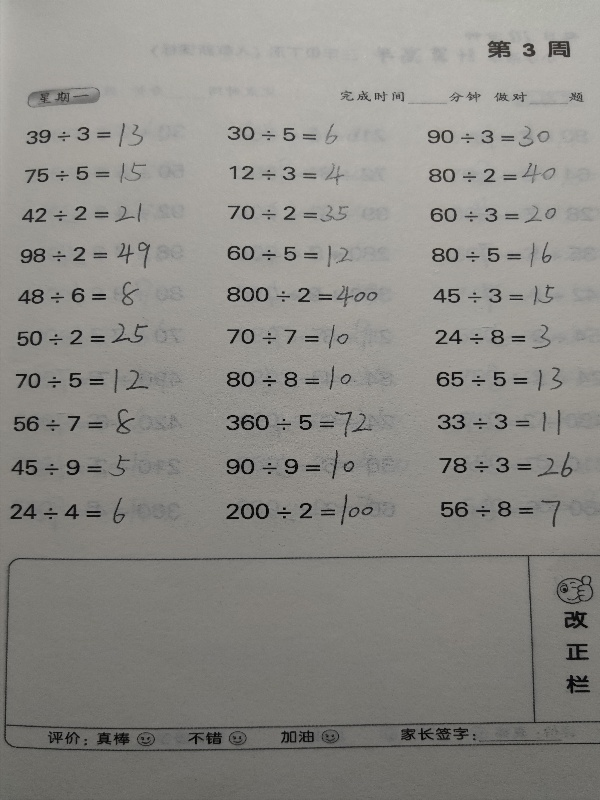equation: (223, 491, 377, 529), (223, 408, 376, 441), (223, 446, 358, 483), (17, 238, 154, 272), (437, 494, 569, 529), (224, 282, 382, 311), (435, 451, 576, 483), (223, 362, 360, 394), (13, 366, 152, 397), (428, 240, 555, 273), (9, 403, 139, 435), (434, 407, 564, 439), (7, 494, 129, 528), (223, 117, 345, 151), (432, 365, 565, 396), (223, 322, 352, 353), (13, 320, 151, 348), (24, 119, 147, 150), (8, 451, 134, 481), (226, 159, 351, 189), (424, 122, 553, 151), (14, 278, 141, 307), (429, 282, 557, 310), (223, 242, 351, 270), (432, 320, 555, 349), (425, 161, 559, 187), (21, 159, 149, 186), (18, 201, 145, 228), (427, 204, 561, 227), (223, 201, 350, 224)
